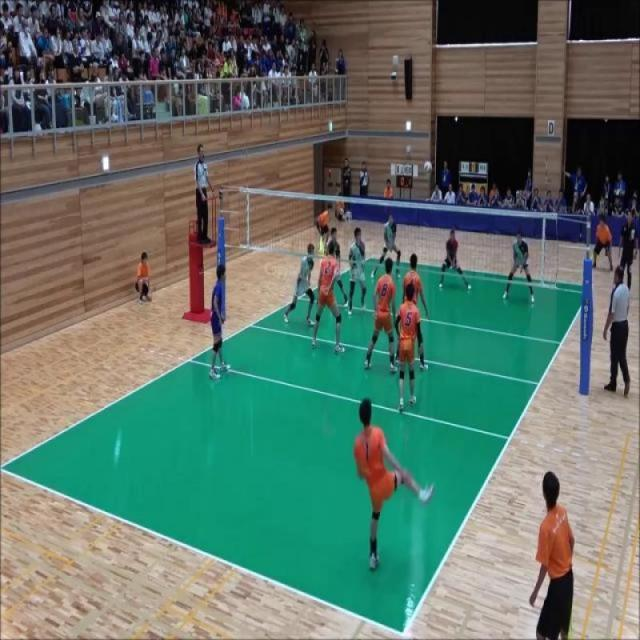volleyball: (423, 160, 432, 176), (340, 207, 342, 216)
